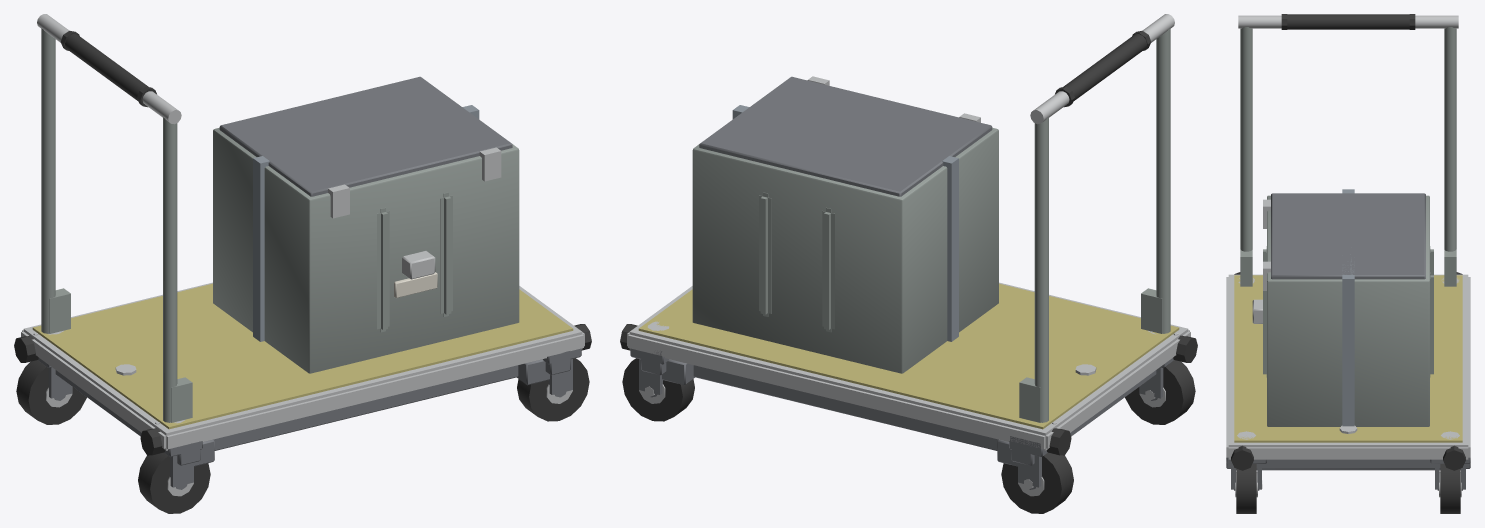
The model's file is OBJ-029_Carro.fbx.
3 views of the same model, side by side, from view 1: azimuth 30°, elevation 25°; view 2: azimuth 150°, elevation 25°; view 3: azimuth 270°, elevation 25° (orthographic). The views are drawn at different scales.
Parts seen in each view (by area): view 1: crate_load, platform, handle, wheels, chassis, strap, fittings; view 2: crate_load, platform, handle, wheels, chassis, strap, fittings; view 3: crate_load, platform, handle, wheels, strap, fittings, chassis.
Boxes of the visible parts, x1,y1,x2,y2 form: crate_load: [213, 76, 519, 373]; platform: [21, 282, 584, 465]; handle: [33, 14, 192, 424]; wheels: [16, 330, 589, 513]; chassis: [194, 359, 549, 466]; strap: [253, 105, 479, 341]; fittings: [14, 272, 591, 455]; crate_load: [692, 76, 998, 373]; platform: [627, 282, 1190, 465]; handle: [1019, 14, 1178, 424]; wheels: [622, 321, 1195, 513]; chassis: [662, 359, 1017, 466]; strap: [732, 105, 958, 341]; fittings: [620, 324, 1197, 455]; crate_load: [1263, 193, 1433, 426]; platform: [1226, 274, 1470, 468]; handle: [1238, 14, 1458, 286]; wheels: [1226, 277, 1470, 513]; strap: [1252, 189, 1354, 426]; fittings: [1231, 272, 1465, 470]; chassis: [1236, 469, 1460, 470].
Size of the model in its own units: 1.04 by 0.921 by 0.6.
